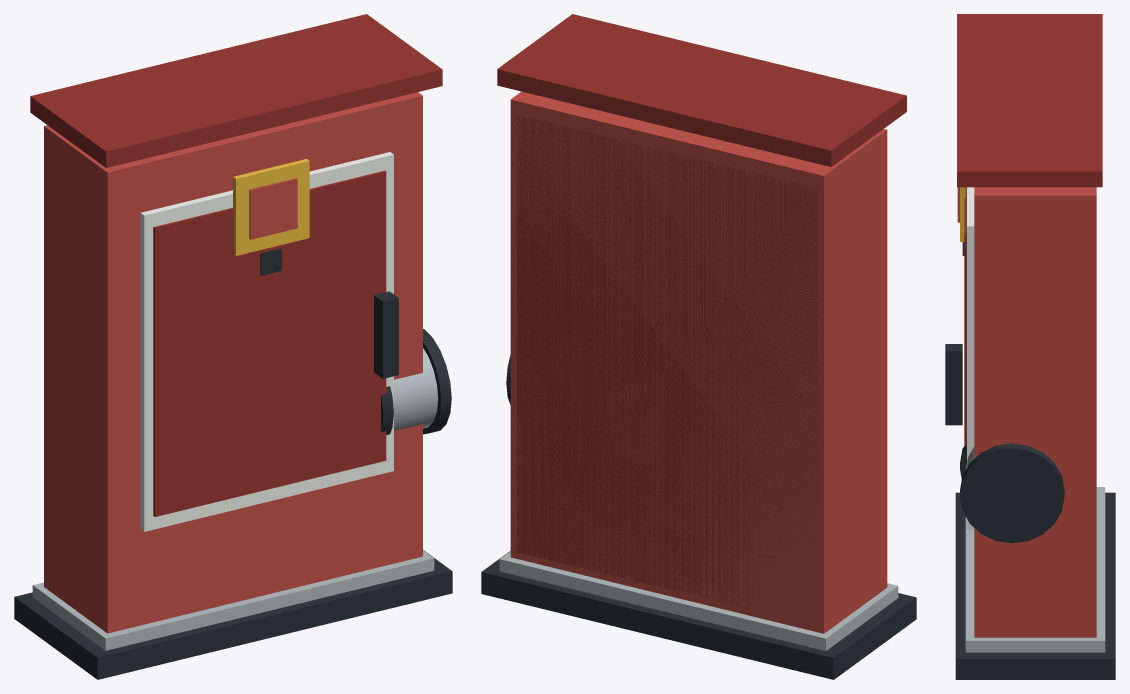
File: fire_station.glb
The picture shows the model from 3 angles, left to right: view 1: azimuth 30°, elevation 25°; view 2: azimuth 150°, elevation 25°; view 3: azimuth 270°, elevation 25°; orthographic projection. The views are drawn at different scales.
Visible parts, largest first — view 1: fire_station__body; view 2: fire_station__body; view 3: fire_station__body.
Part boxes in pixels (<box>): fire_station__body: <box>14,14,452,679</box>; fire_station__body: <box>481,14,916,679</box>; fire_station__body: <box>945,14,1115,679</box>.
Bounding box in the file's own units: 1.36 × 1.91 × 0.585.
